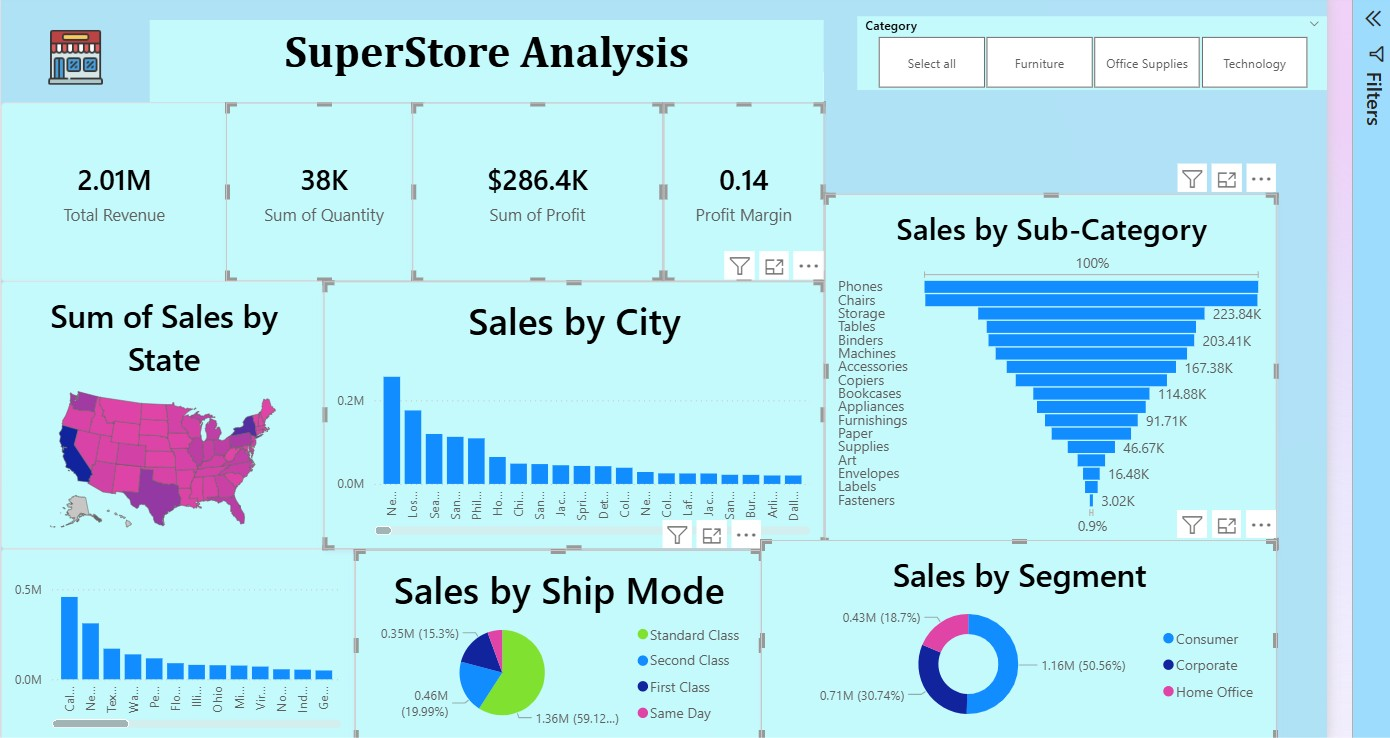

This screenshot's page, from the dashboard's own definition file:
{"tool":"powerbi","page":{"name":"Page 1","canvas":[1280,720],"ordinal":0},"visuals":[{"type":"textbox","box":[144.1,24.5,650.8,79.5],"z":0,"group":"g1"},{"type":"card","fields":{"Values":["SampleSuperstore.Total Revenue"]},"box":[0,103.9,218.9,172.4],"z":0},{"type":"image","box":[0,29.7,144.1,62.2],"z":1000,"group":"g1"},{"type":"card","fields":{"Values":["Sum(SampleSuperstore.Quantity)"]},"box":[217.7,103.9,189.5,172.4],"z":1000},{"type":"card","fields":{"Values":["Sum(SampleSuperstore.Profit)"]},"box":[397.4,103.9,242.1,172.4],"z":2000},{"type":"card","fields":{"Values":["SampleSuperstore.Profit Margin"]},"box":[639.5,103.9,155.3,172.4],"z":3000},{"type":"shapeMap","fields":{"Value":["Sum(SampleSuperstore.Sales)"],"Category":["SampleSuperstore.State"]},"box":[0,276.4,313,258],"z":4000},{"type":"columnChart","fields":{"Y":["Sum(SampleSuperstore.Sales)"],"Category":["SampleSuperstore.State"]},"box":[0,534.5,341.4,186.2],"z":5000},{"type":"columnChart","title":" Sales by City","fields":{"Category":["SampleSuperstore.City"],"Y":["Sum(SampleSuperstore.Sales)"]},"box":[311.8,276.4,483,258],"z":6000},{"type":"pieChart","title":" Sales by Ship Mode","fields":{"Category":["SampleSuperstore.Ship Mode"],"Y":["Sum(SampleSuperstore.Sales)"]},"box":[341.4,536.2,393.1,184.5],"z":7000},{"type":"funnel","title":" Sales by Sub-Category","fields":{"Category":["SampleSuperstore.Sub-Category"],"Y":["Sum(SampleSuperstore.Sales)"]},"box":[794.8,192,436.6,342.4],"z":8000},{"type":"donutChart","title":" Sales by Segment","fields":{"Category":["SampleSuperstore.Segment"],"Y":["Sum(SampleSuperstore.Sales)"]},"box":[733.7,525.8,497.7,194.4],"z":9000},{"type":"slicer","title":"Category","fields":{"Values":["SampleSuperstore.Category"]},"box":[826.6,20.8,453.7,70.9],"z":10000},{"type":"group","id":"g1","title":"Group 1","box":[0,24.5,794.8,79.5],"z":11000}]}

Visuals, with their boxes on the page's 1280x720 design canvas (x1, y1, x2, y2). These are canvas units, not pixel positions in the 1390x738 screenshot, which may show the page scaled, cropped or inside an application window:
textbox: [left=144, top=24, right=795, bottom=104]
card - SampleSuperstore.Total Revenue: [left=0, top=104, right=219, bottom=276]
image: [left=0, top=30, right=144, bottom=92]
card - Sum(SampleSuperstore.Quantity): [left=218, top=104, right=407, bottom=276]
card - Sum(SampleSuperstore.Profit): [left=397, top=104, right=640, bottom=276]
card - SampleSuperstore.Profit Margin: [left=640, top=104, right=795, bottom=276]
shapeMap - Sum(SampleSuperstore.Sales) x SampleSuperstore.State: [left=0, top=276, right=313, bottom=534]
columnChart - Sum(SampleSuperstore.Sales) x SampleSuperstore.State: [left=0, top=534, right=341, bottom=721]
" Sales by City" columnChart: [left=312, top=276, right=795, bottom=534]
" Sales by Ship Mode" pieChart: [left=341, top=536, right=734, bottom=721]
" Sales by Sub-Category" funnel: [left=795, top=192, right=1231, bottom=534]
" Sales by Segment" donutChart: [left=734, top=526, right=1231, bottom=720]
"Category" slicer: [left=827, top=21, right=1280, bottom=92]
"Group 1" group: [left=0, top=24, right=795, bottom=104]
